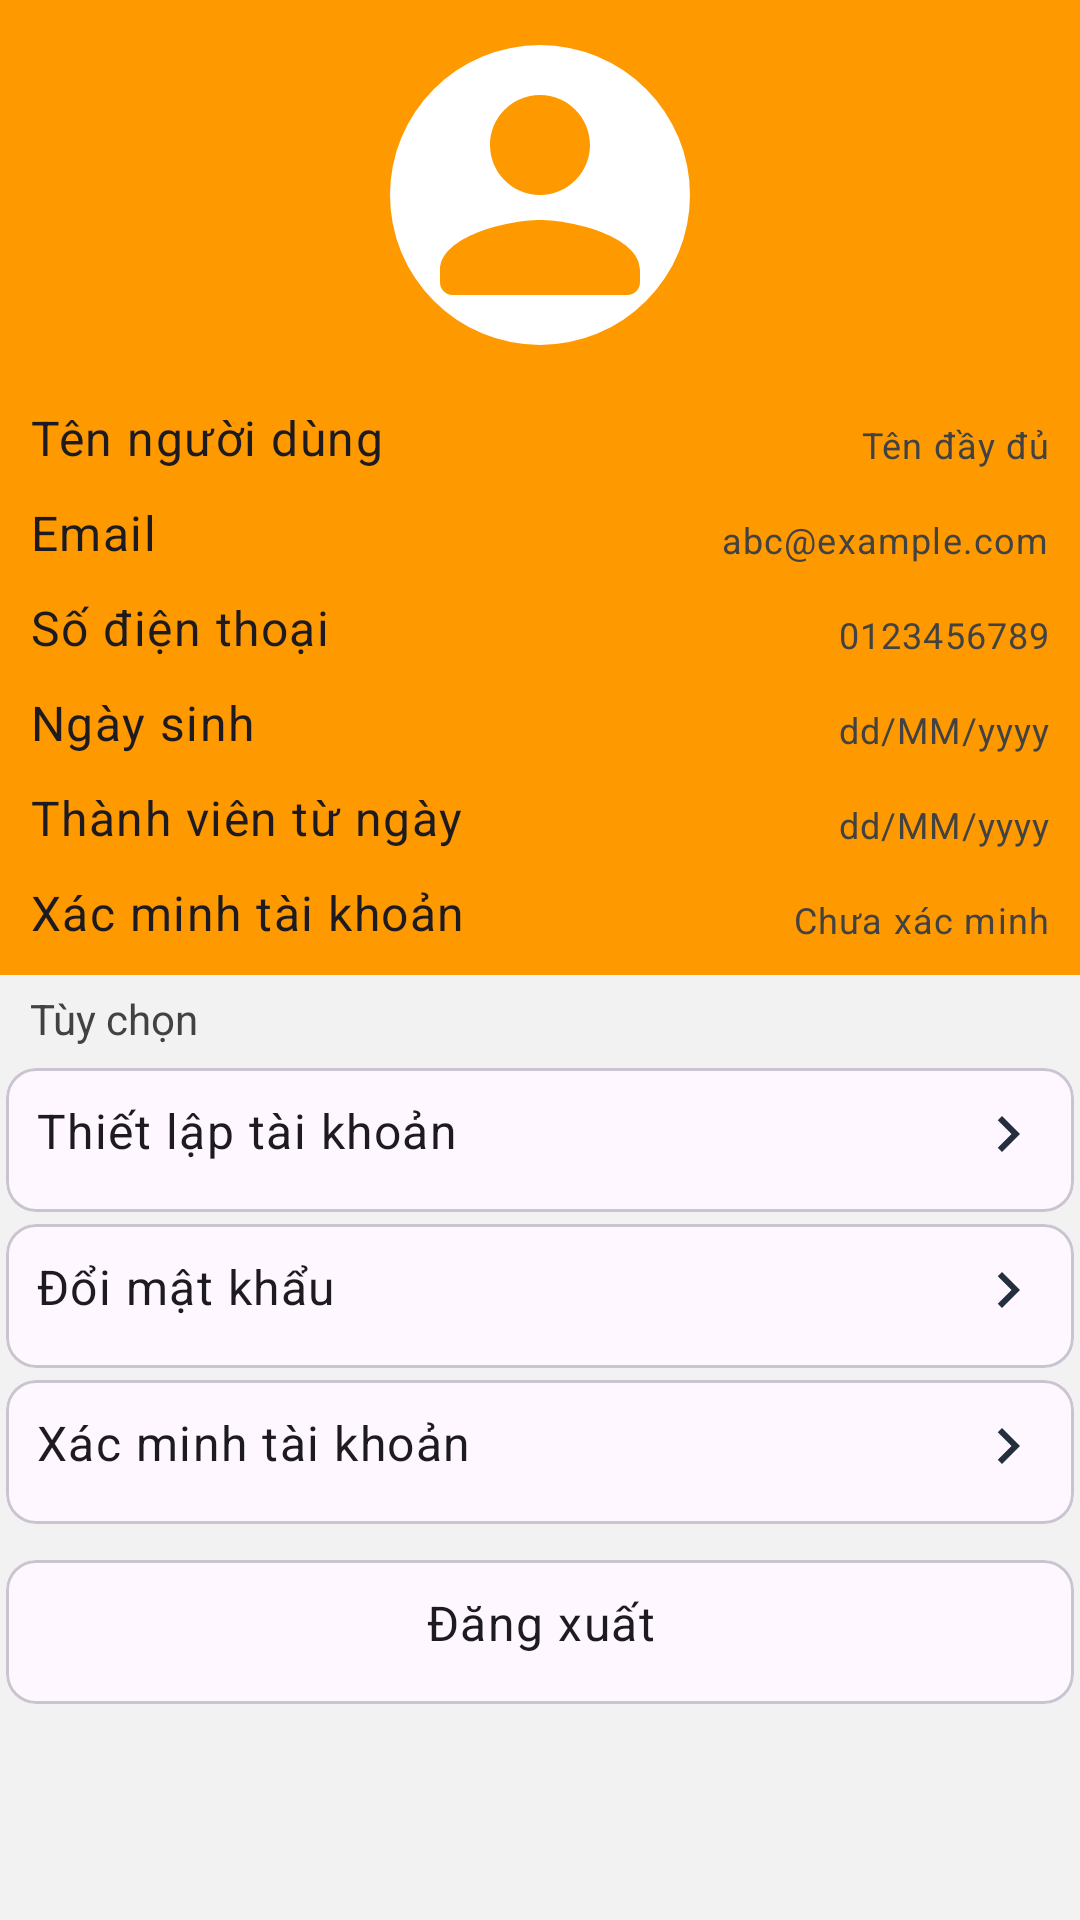

Point at icon controls on the screen. Image size 1080w x 1920h, points as [x,y].
person: [540,195]
